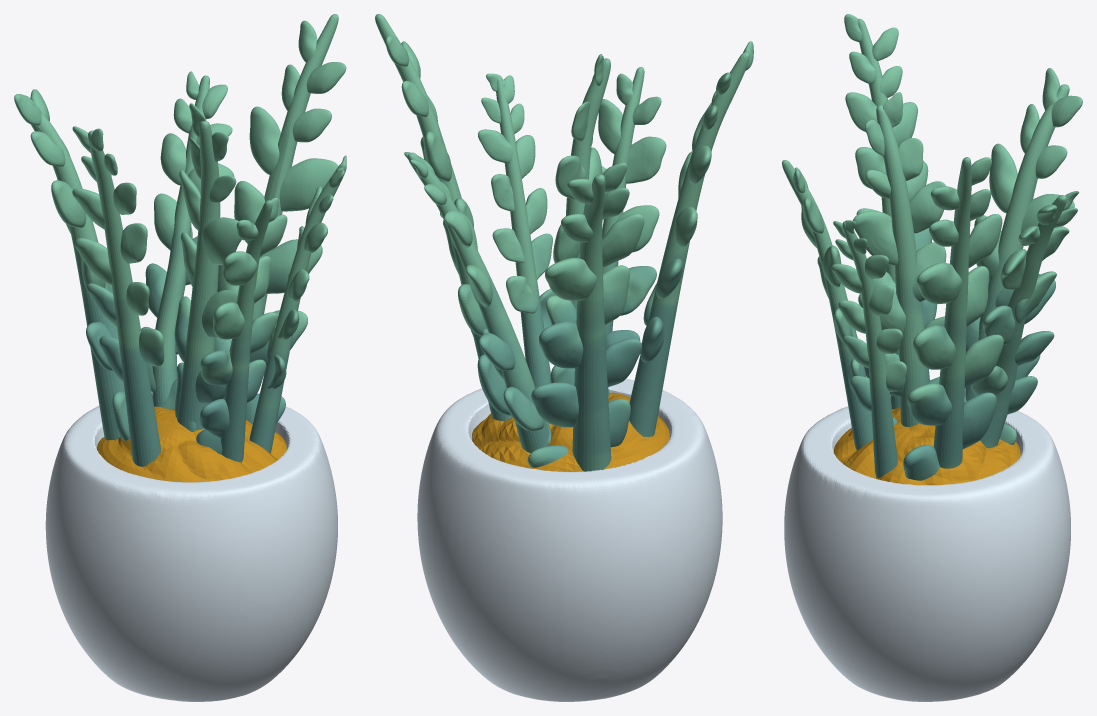
File: Game Floor Plant ZZ.glb
3 renders of one model, left to right at view 1: azimuth 30°, elevation 25°; view 2: azimuth 150°, elevation 25°; view 3: azimuth 270°, elevation 25°, orthographic. The views are drawn at different scales.
Visible parts, largest first — view 1: Zanzibar, Plant; view 2: Plant, Zanzibar; view 3: Zanzibar, Plant.
Boxes of the visible parts, x1,y1,x2,y2 form: Zanzibar: (14,14,346,466); Plant: (45,392,337,701); Plant: (417,378,722,701); Zanzibar: (375,14,753,471); Zanzibar: (782,14,1082,480); Plant: (784,396,1070,701).
Bounding box in the file's own units: 0.474 × 0.8958 × 0.4142.
